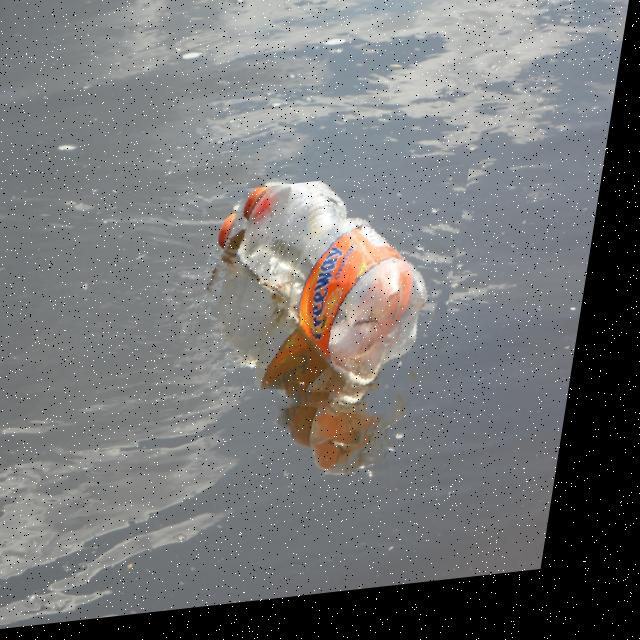litter: (185, 176, 477, 437)
